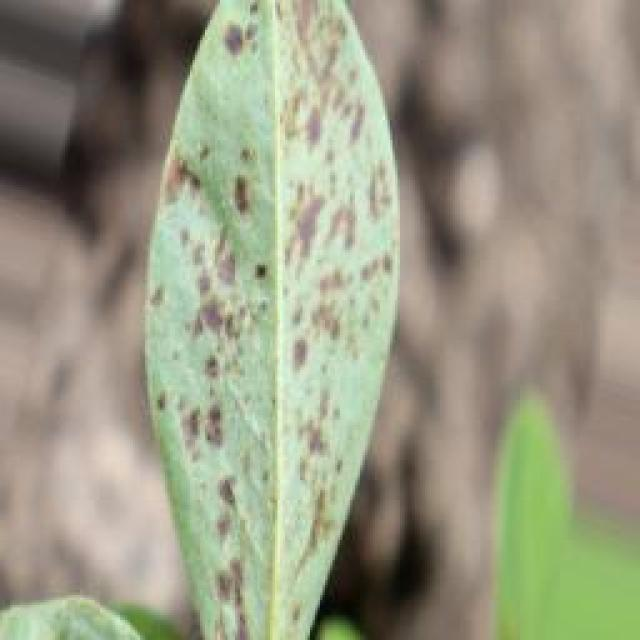Whitefly: (116, 0, 442, 640)
